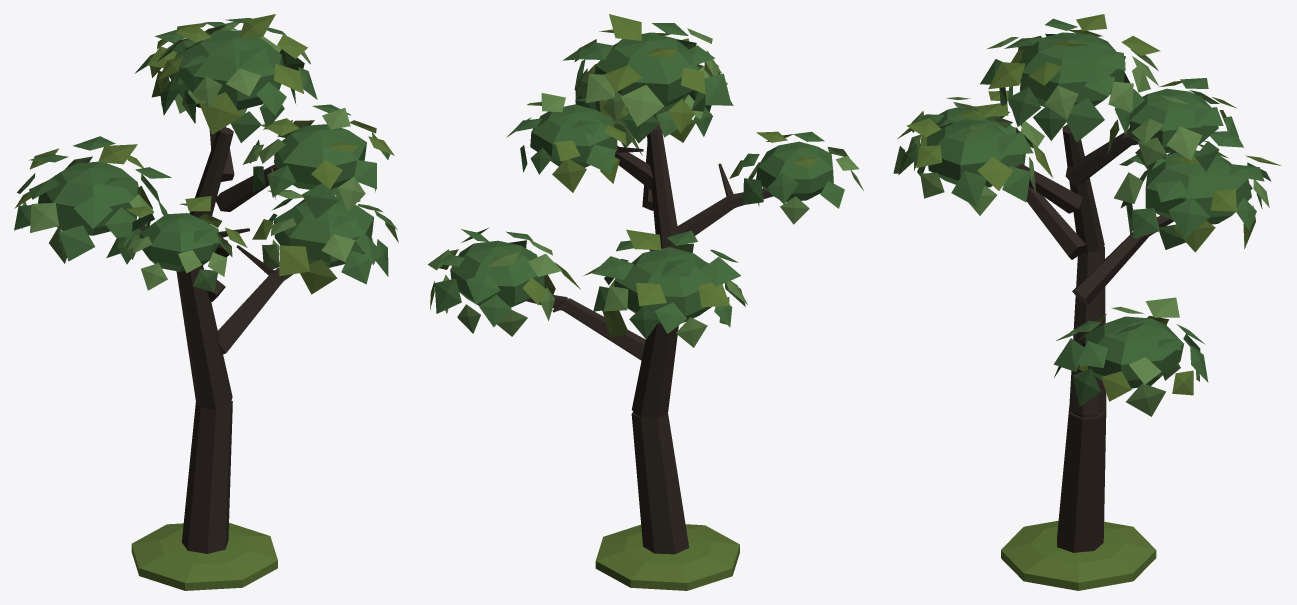
The model's file is sapling.glb.
3 renders of one model, left to right at view 1: azimuth 30°, elevation 25°; view 2: azimuth 150°, elevation 25°; view 3: azimuth 270°, elevation 25°, orthographic. The views are drawn at different scales.
Visible parts, largest first — view 1: Sapling; view 2: Sapling; view 3: Sapling.
Boxes of the visible parts, left/top/right/bottom form: Sapling: left=14, top=14, right=398, bottom=590; Sapling: left=428, top=14, right=863, bottom=590; Sapling: left=893, top=14, right=1281, bottom=590.
Size of the model in its own units: 0.9869 by 1.47 by 0.9341.
